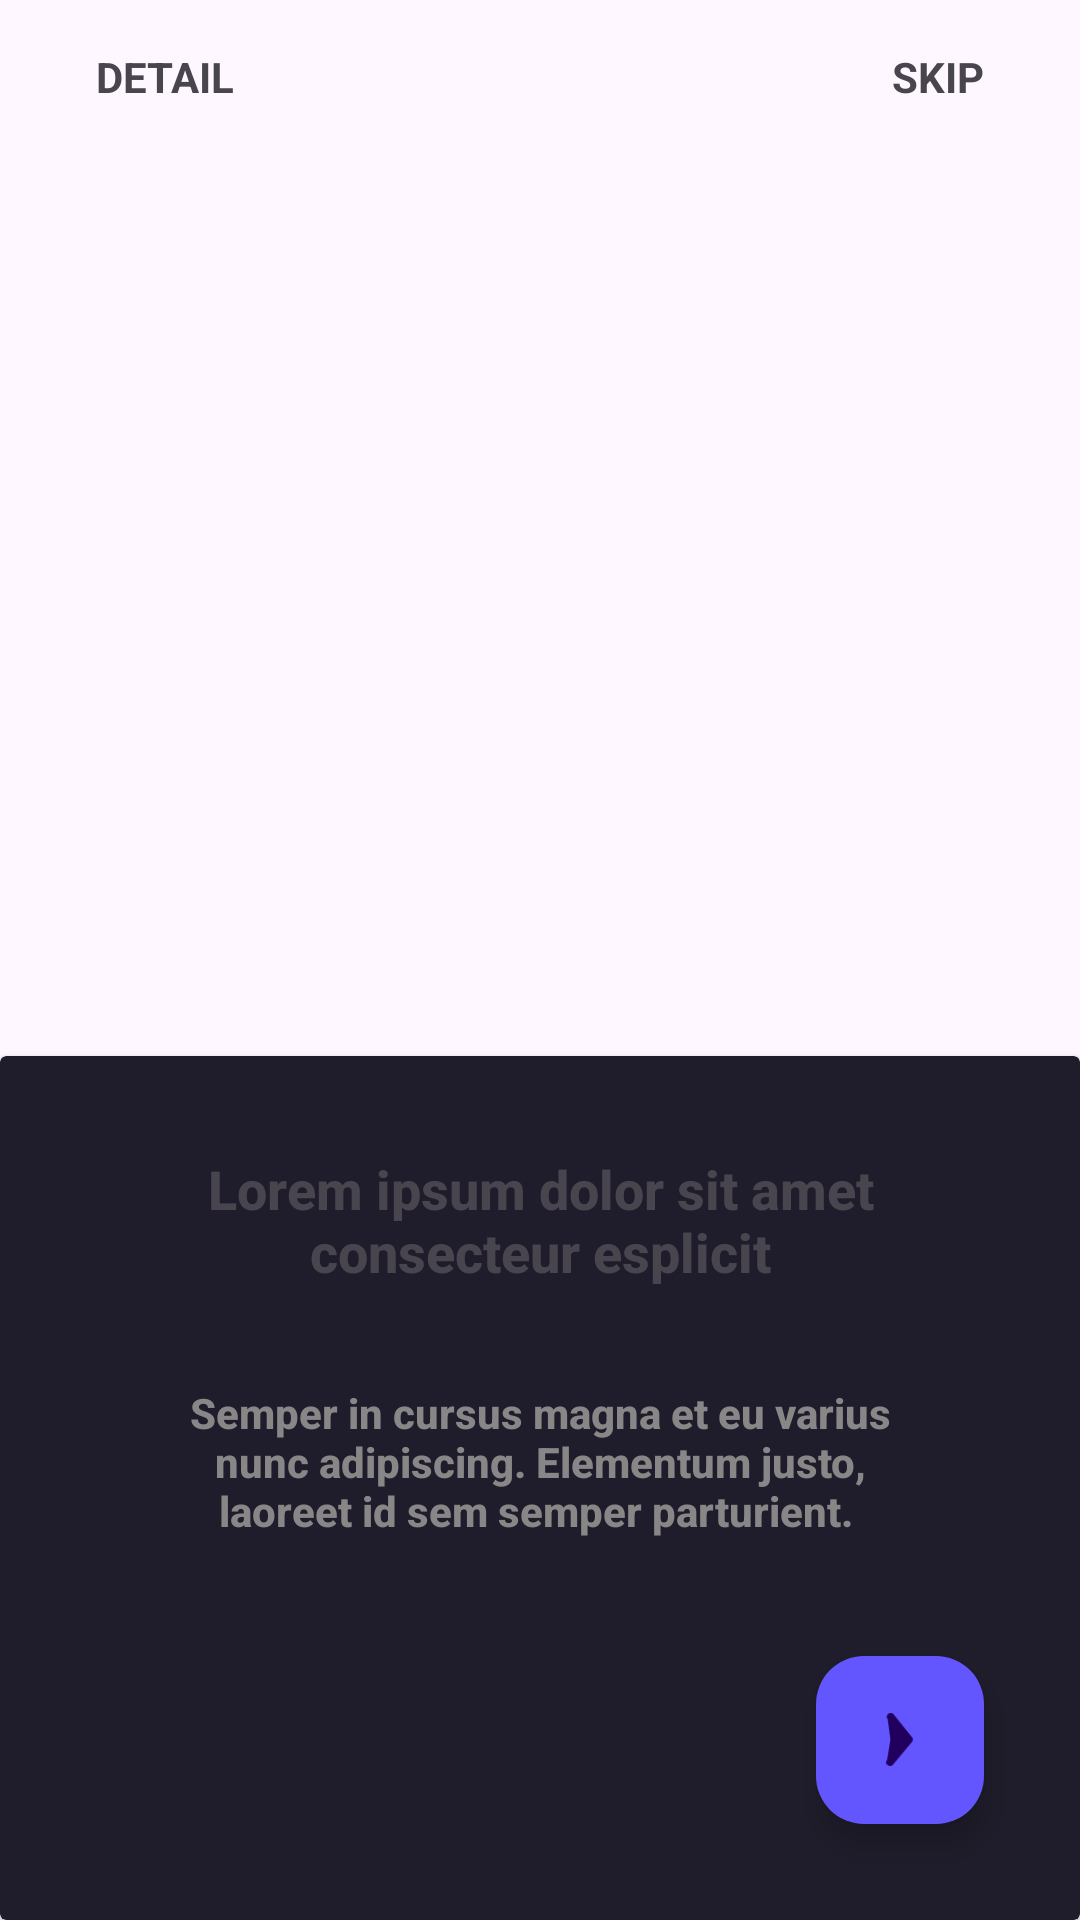

Icon bounding boxes for this 1080x1920 phone screenshot, format bbox=[x1, y1, x2, y2]:
fabvector: bbox=[816, 1656, 984, 1824]
